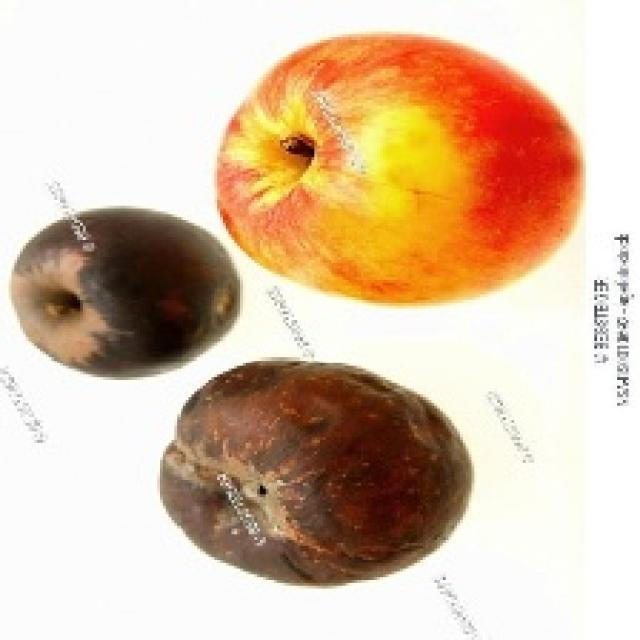100-_ripeness: (240, 35, 588, 304)
rotten_apple: (166, 360, 474, 581), (12, 209, 238, 373)
